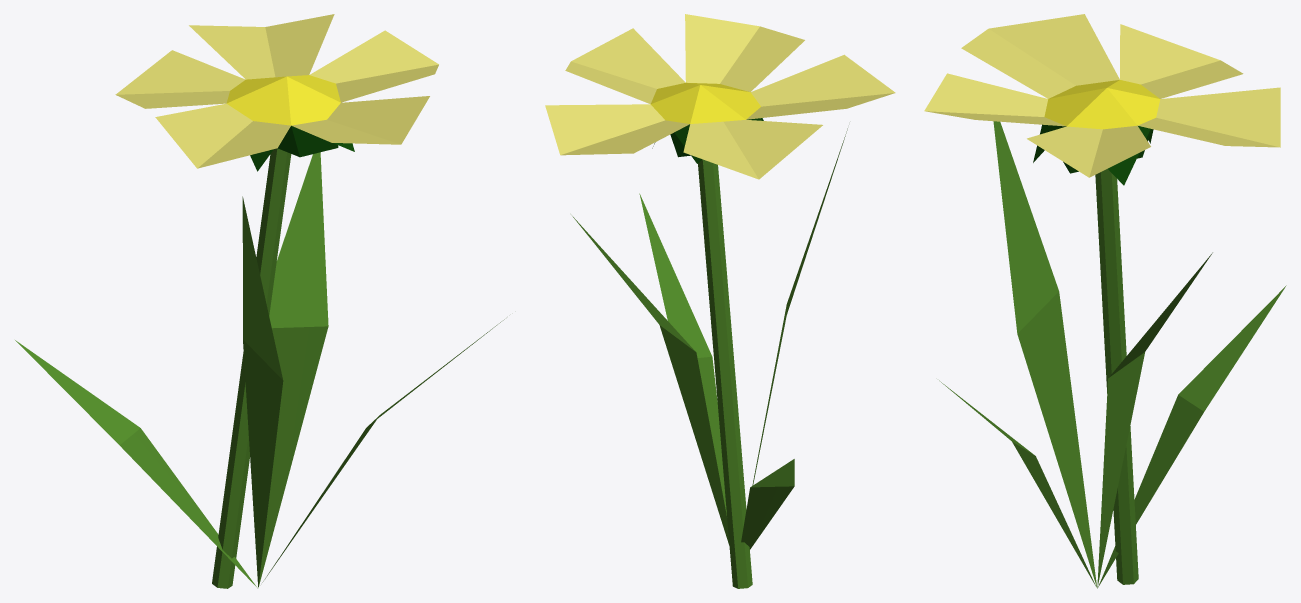
The model's file is flower.glb.
The picture shows the model from 3 angles, left to right: view 1: azimuth 30°, elevation 25°; view 2: azimuth 150°, elevation 25°; view 3: azimuth 270°, elevation 25°; orthographic projection. The views are drawn at different scales.
Visible parts, largest first — view 1: flower.004; view 2: flower.004; view 3: flower.004.
Boxes of the visible parts, box(x1,y1,x2,y2) form: flower.004: box(15, 14, 504, 588); flower.004: box(545, 14, 895, 588); flower.004: box(924, 14, 1286, 588).
Bounding box in the file's own units: 0.3681 × 0.5413 × 0.3365.
